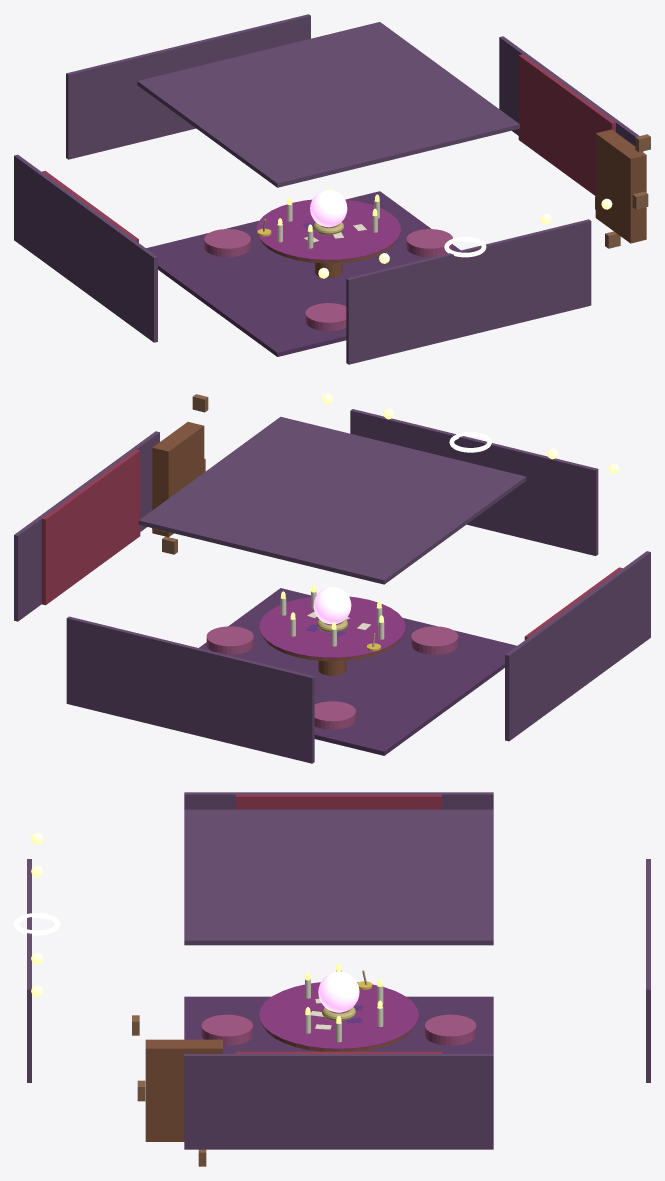
3 renders of one model, top to bottom at view 1: azimuth 30°, elevation 25°; view 2: azimuth 150°, elevation 25°; view 3: azimuth 270°, elevation 25°, orthographic. The views are drawn at different scales.
Parts seen in each view (by area): view 1: Ceiling, Wall_0, Floor, Wall_2, Wall_1, Curtain_5.9, TableCloth, Bookshelf, Wall_3, Cushion_2.1, CrystalBall, Cushion_0.0 (+1 smaller); view 2: Ceiling, Wall_1, Floor, Wall_2, Wall_0, Curtain_5.9, TableCloth, Wall_3, Bookshelf, Cushion_4.2, Cushion_0.0, CrystalBall (+1 smaller); view 3: Ceiling, Wall_3, Floor, TableCloth, Bookshelf, Curtain_-5.9, Wall_2, Cushion_2.1, CrystalBall, Cushion_4.2, Wall_1, Wall_0 (+2 smaller).
Boxes of the visible parts, x1,y1,x2,y2 form: Ceiling: (137, 22, 519, 187); Wall_0: (346, 219, 591, 364); Floor: (146, 191, 460, 356); Wall_2: (14, 154, 157, 342); Wall_1: (66, 14, 310, 159); Curtain_5.9: (518, 54, 615, 195); TableCloth: (256, 199, 400, 260); Bookshelf: (595, 129, 646, 243); Wall_3: (499, 36, 643, 151); Cushion_2.1: (204, 229, 250, 257); CrystalBall: (310, 190, 347, 227); Cushion_0.0: (406, 229, 452, 257); Ceiling: (138, 416, 526, 584); Wall_1: (66, 616, 314, 763); Floor: (199, 588, 516, 755); Wall_2: (505, 551, 650, 741); Wall_0: (350, 409, 598, 555); Curtain_5.9: (41, 449, 140, 605); TableCloth: (259, 596, 405, 658); Wall_3: (14, 431, 159, 621); Bookshelf: (152, 422, 204, 537); Cushion_4.2: (411, 626, 458, 654); Cushion_0.0: (206, 626, 253, 654); CrystalBall: (313, 586, 351, 624); Ceiling: (184, 809, 493, 945); Wall_3: (184, 1054, 493, 1149); Floor: (184, 996, 493, 1053); TableCloth: (259, 982, 418, 1049); Bookshelf: (145, 1039, 222, 1141); Curtain_-5.9: (235, 794, 441, 809); Wall_2: (184, 792, 493, 809); Cushion_2.1: (424, 1014, 476, 1045); CrystalBall: (318, 971, 359, 1012); Cushion_4.2: (201, 1014, 252, 1045); Wall_1: (646, 859, 650, 1082); Wall_0: (27, 859, 31, 1082).
Bounding box in the file's own units: 12.1 × 4.1 × 12.35.
